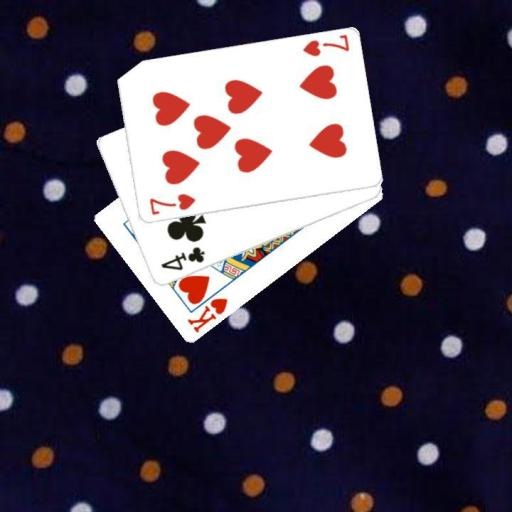4C: (157, 244, 206, 272)
7H: (146, 190, 197, 217), (300, 32, 351, 58)
KH: (184, 295, 230, 335)
